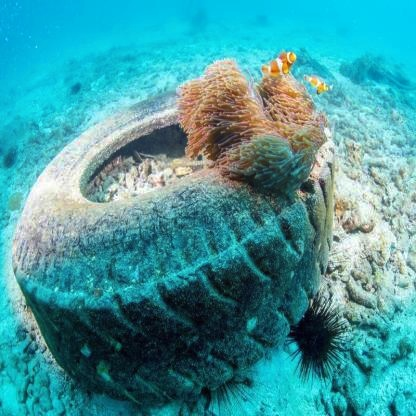tire: (14, 112, 302, 369)
